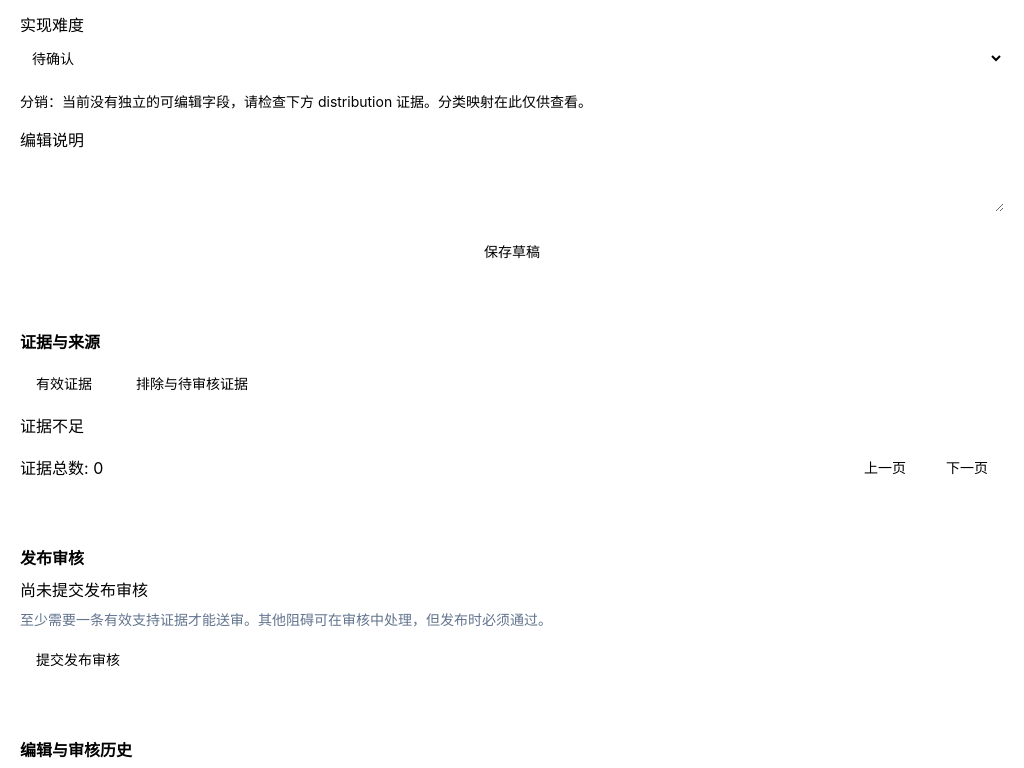
Test: explains excluded evidence separately
(page scrolled)
Click the button "排除与待审核证据" at (192,384), box [120, 366, 264, 402]
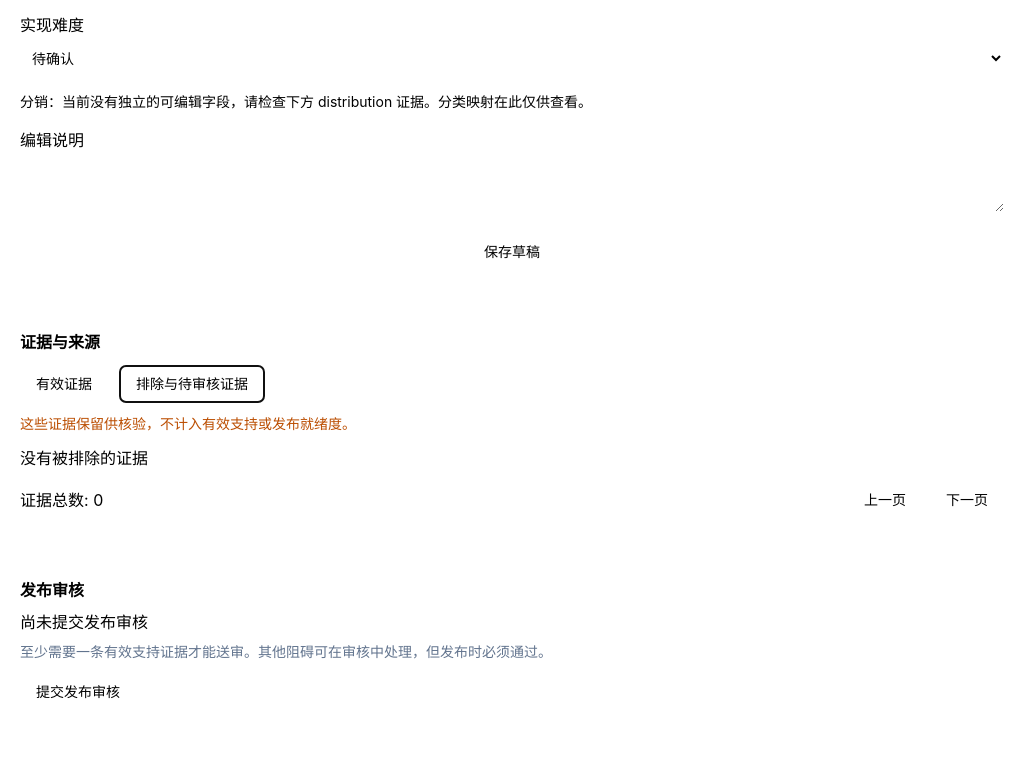
expect the text "这些证据保留供核验，不计入有效支持或发布就绪度。" is shown: met, box [20, 415, 356, 432]
